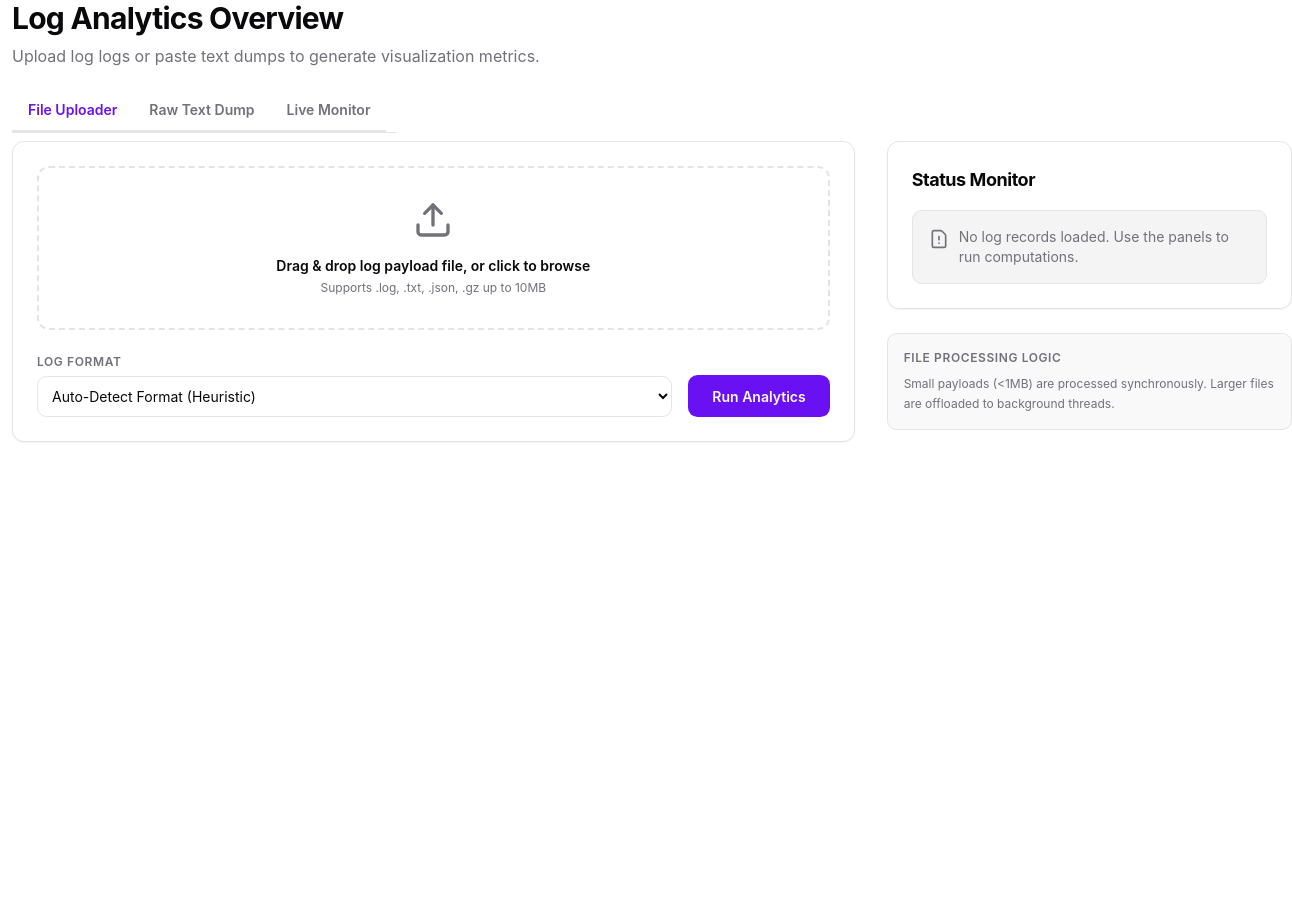
Test case: Dashboard page interactive metrics flows › submits raw text paste for analysis and renders stats widgets
Switch to paste tab
Click the button "Raw Text Dump". click: [202, 116]
box: left=133, top=100, right=270, bottom=132
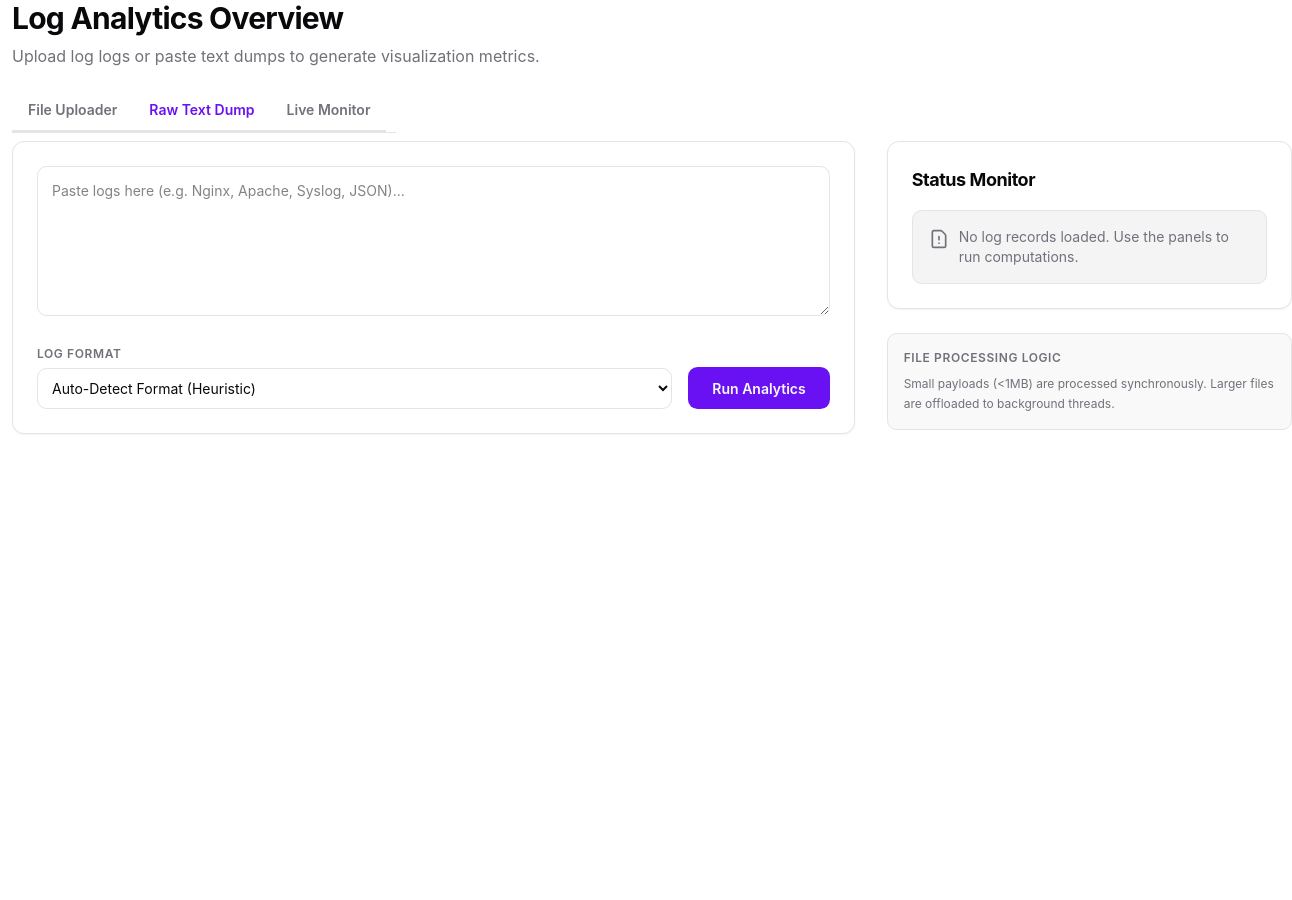
Enter raw log text
Type "192.168.1.100 - - ..." into the text box with placeholder "Paste logs here (e.g. Nginx, Apache, Syslog, JSON)...". click: [433, 241]
box: left=37, top=166, right=830, bottom=316
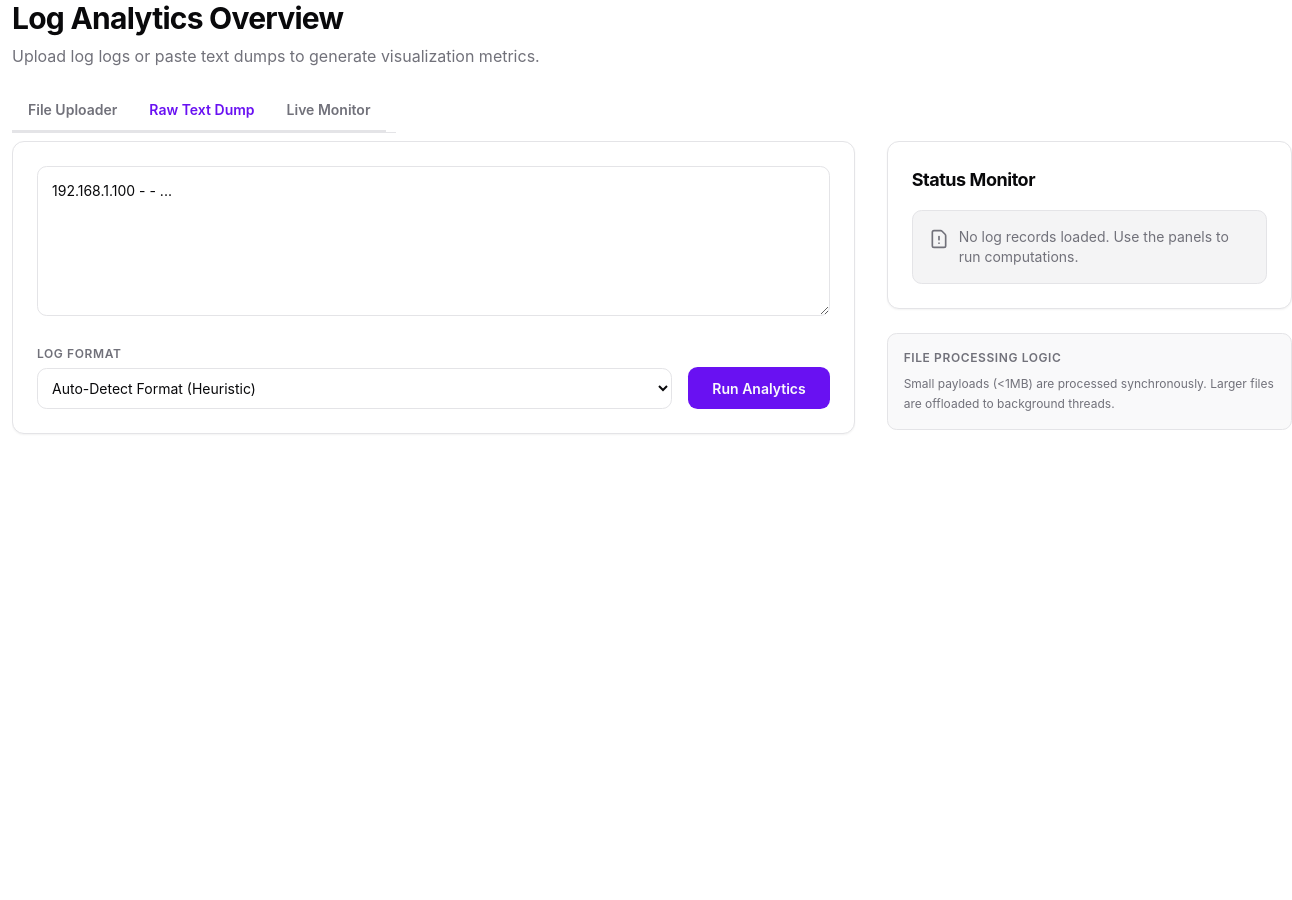
Run Analytics trigger
Click the button "Run Analytics". click: [759, 388]
box: left=688, top=367, right=830, bottom=409
(page scrolled)
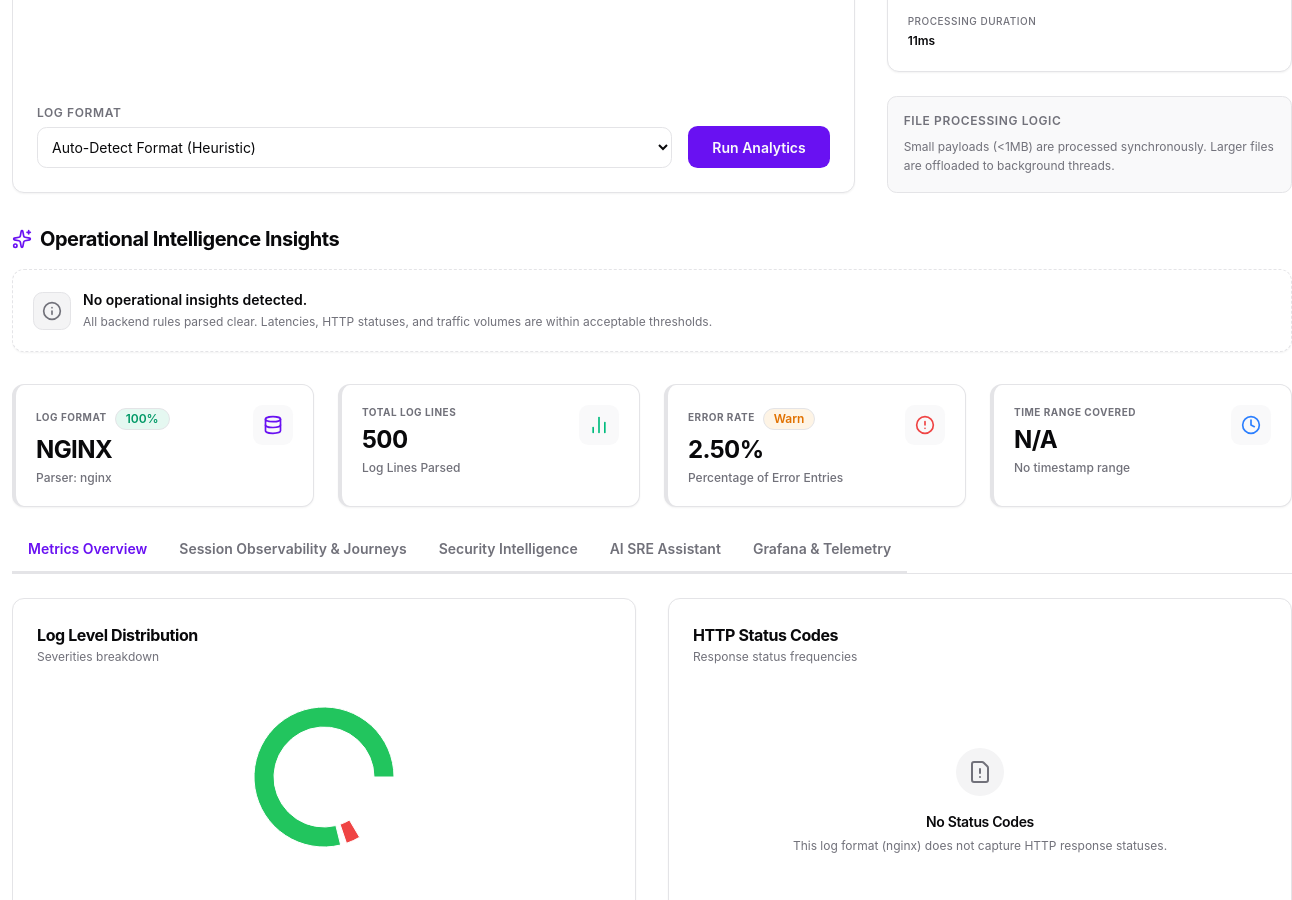
Check: the text "NGINX" is shown, box left=36, top=435, right=112, bottom=464
